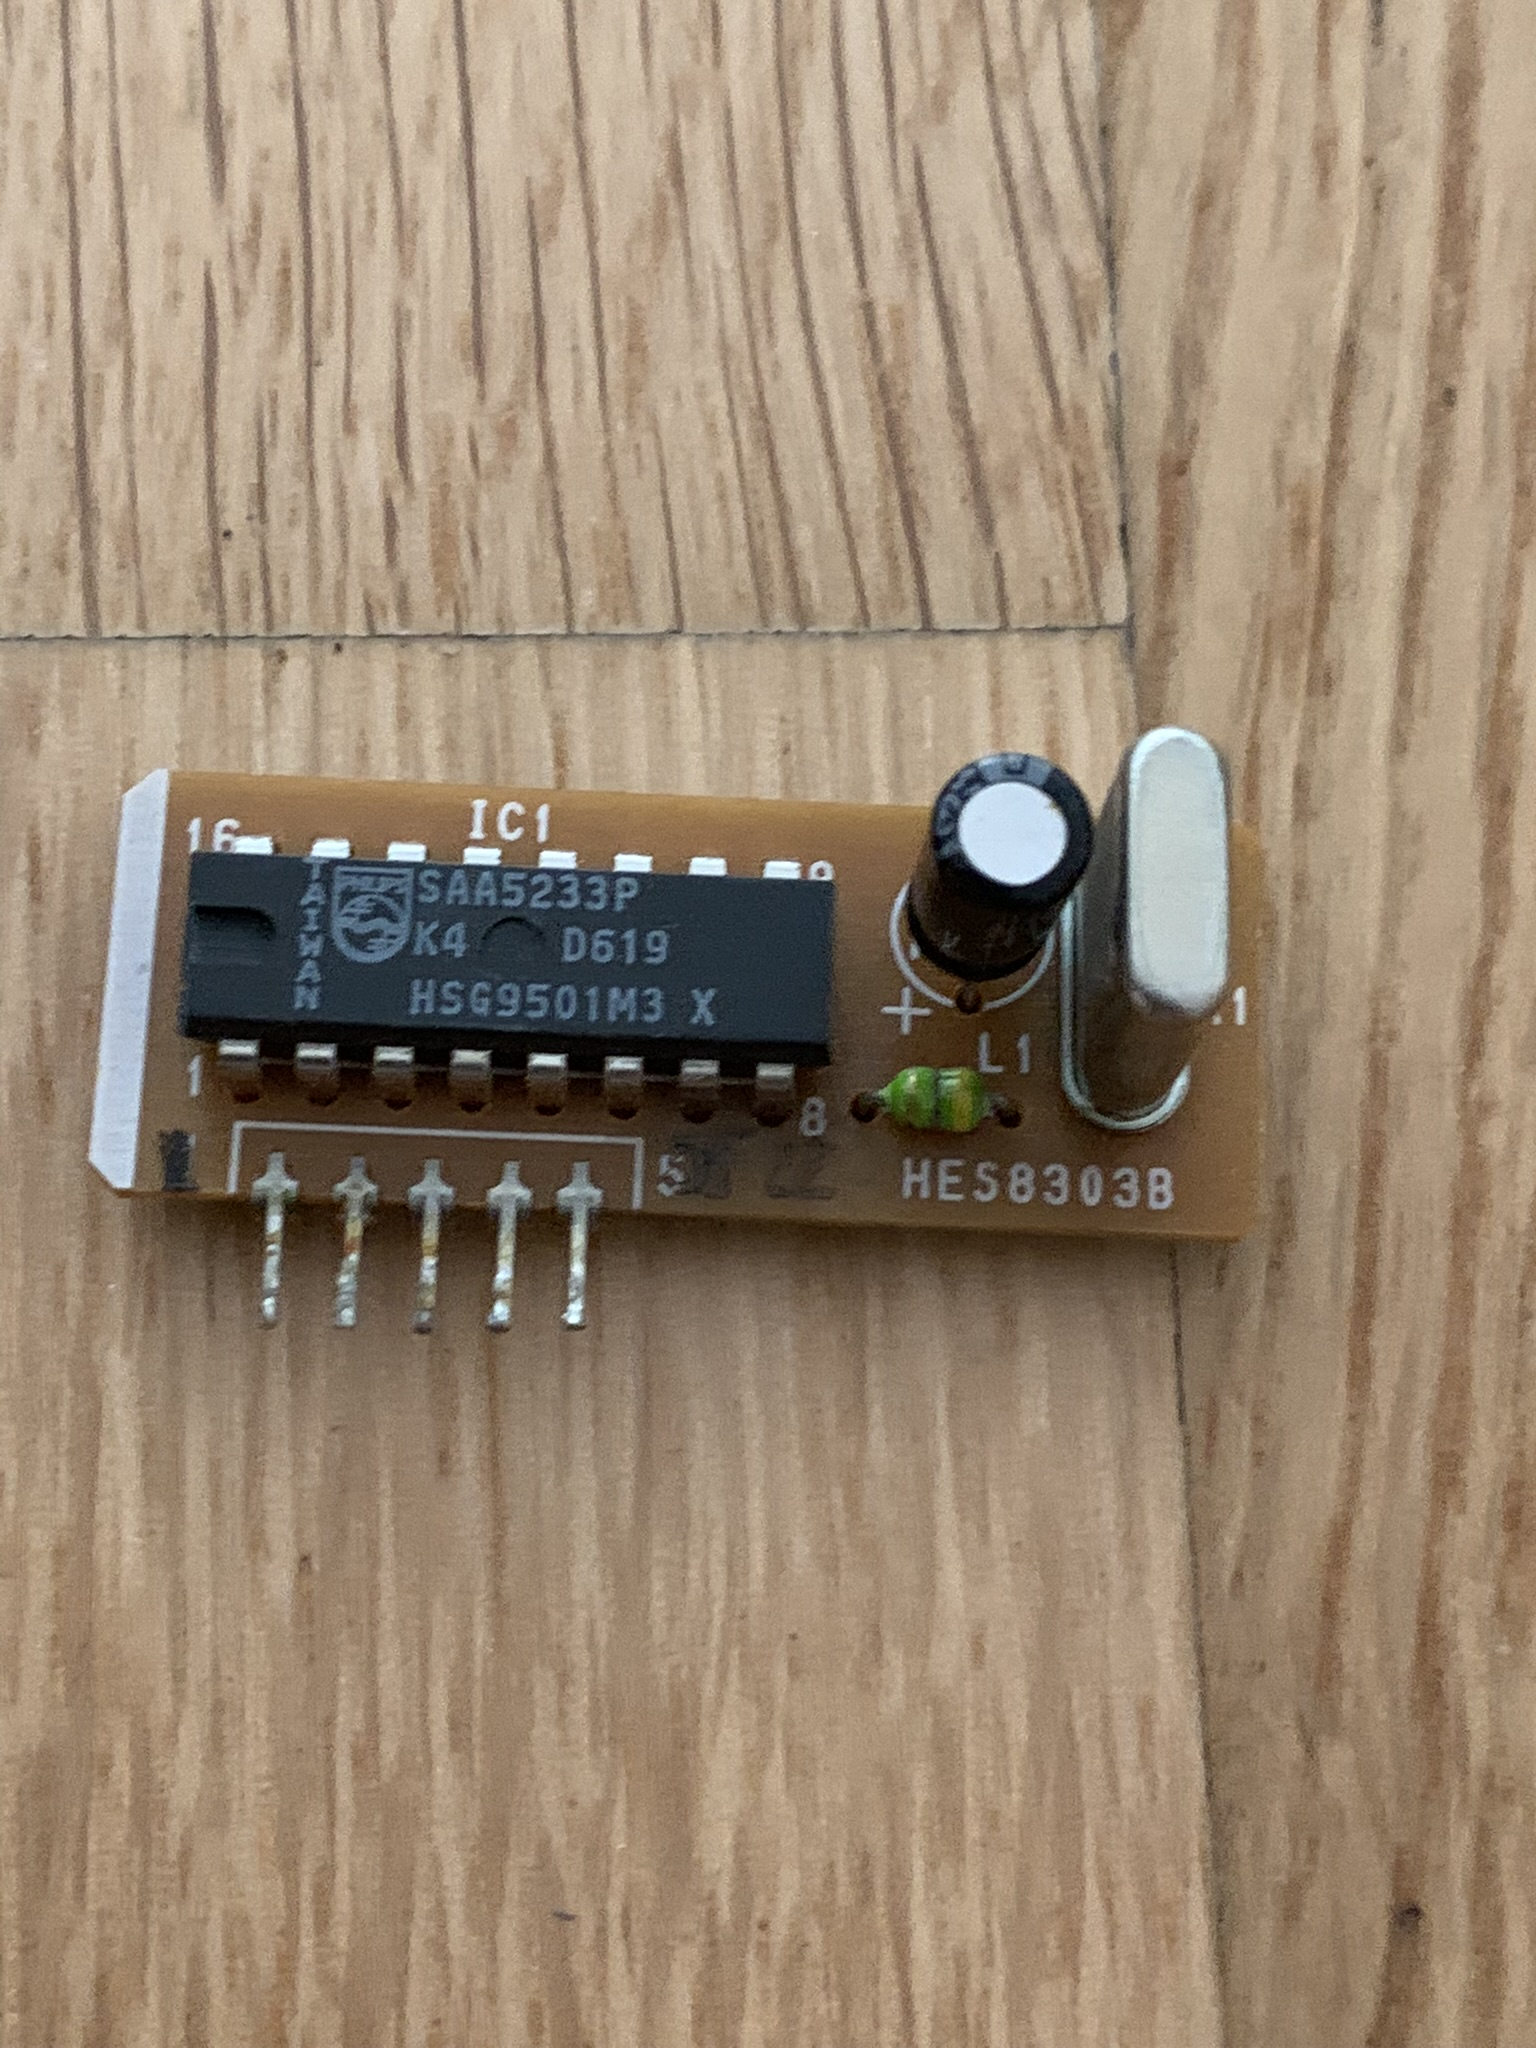capacitor_thd_el: (904, 751, 1099, 989)
ic_thd: (181, 843, 834, 1087)
inductor: (883, 1061, 995, 1130)
